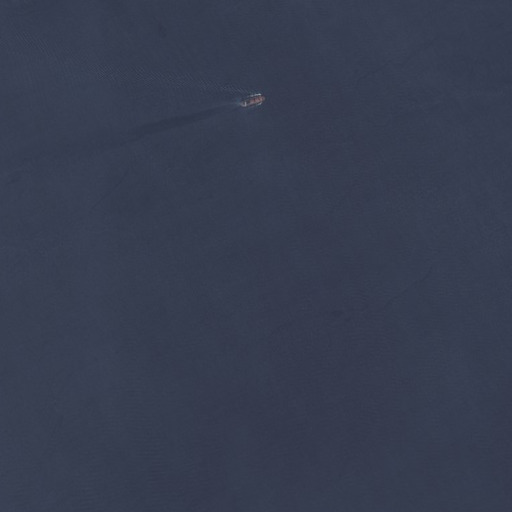ship: (234, 92, 269, 109)
